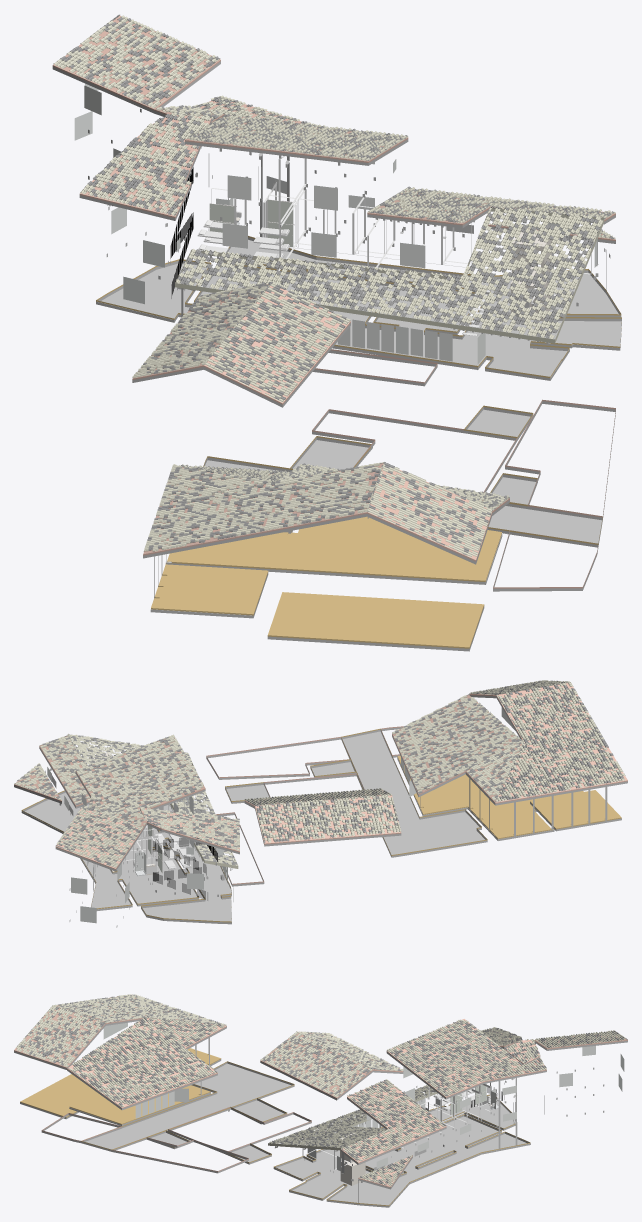
File: tfm_albergue_y_centro_cultural.glb
3 views of the same model, one above another, from view 1: azimuth 30°, elevation 25°; view 2: azimuth 150°, elevation 25°; view 3: azimuth 270°, elevation 25° (orthographic). The views are drawn at different scales.
Visible parts, largest first — view 1: grupo_00, grupo_05, grupo_01, grupo_11, grupo_13, grupo_12, grupo_06, grupo_14; view 2: grupo_00, grupo_05, grupo_01, grupo_13, grupo_11, grupo_12, grupo_06, grupo_02; view 3: grupo_00, grupo_05, grupo_01, grupo_13, grupo_11, grupo_12, grupo_06, grupo_10, grupo_14.
Boxes of the visible parts, <box> form: grupo_00: <box>53,15,615,557</box>; grupo_05: <box>52,61,621,651</box>; grupo_01: <box>60,14,614,555</box>; grupo_11: <box>96,236,621,648</box>; grupo_13: <box>52,15,615,588</box>; grupo_12: <box>74,83,597,364</box>; grupo_06: <box>197,155,591,335</box>; grupo_14: <box>209,199,293,246</box>; grupo_00: <box>14,680,625,868</box>; grupo_05: <box>14,695,627,927</box>; grupo_01: <box>17,680,623,865</box>; grupo_13: <box>14,683,627,884</box>; grupo_11: <box>21,728,621,922</box>; grupo_12: <box>47,707,515,923</box>; grupo_06: <box>84,741,191,874</box>; grupo_02: <box>153,838,217,899</box>; grupo_00: <box>16,994,625,1186</box>; grupo_05: <box>14,1019,627,1207</box>; grupo_01: <box>17,994,627,1185</box>; grupo_13: <box>14,996,627,1187</box>; grupo_11: <box>20,1048,530,1206</box>; grupo_12: <box>103,1022,624,1171</box>; grupo_06: <box>302,1082,494,1169</box>; grupo_10: <box>340,1096,491,1185</box>; grupo_14: <box>451,1083,486,1114</box>.
Bounding box in the file's own units: 52.45 × 14.98 × 71.92.
